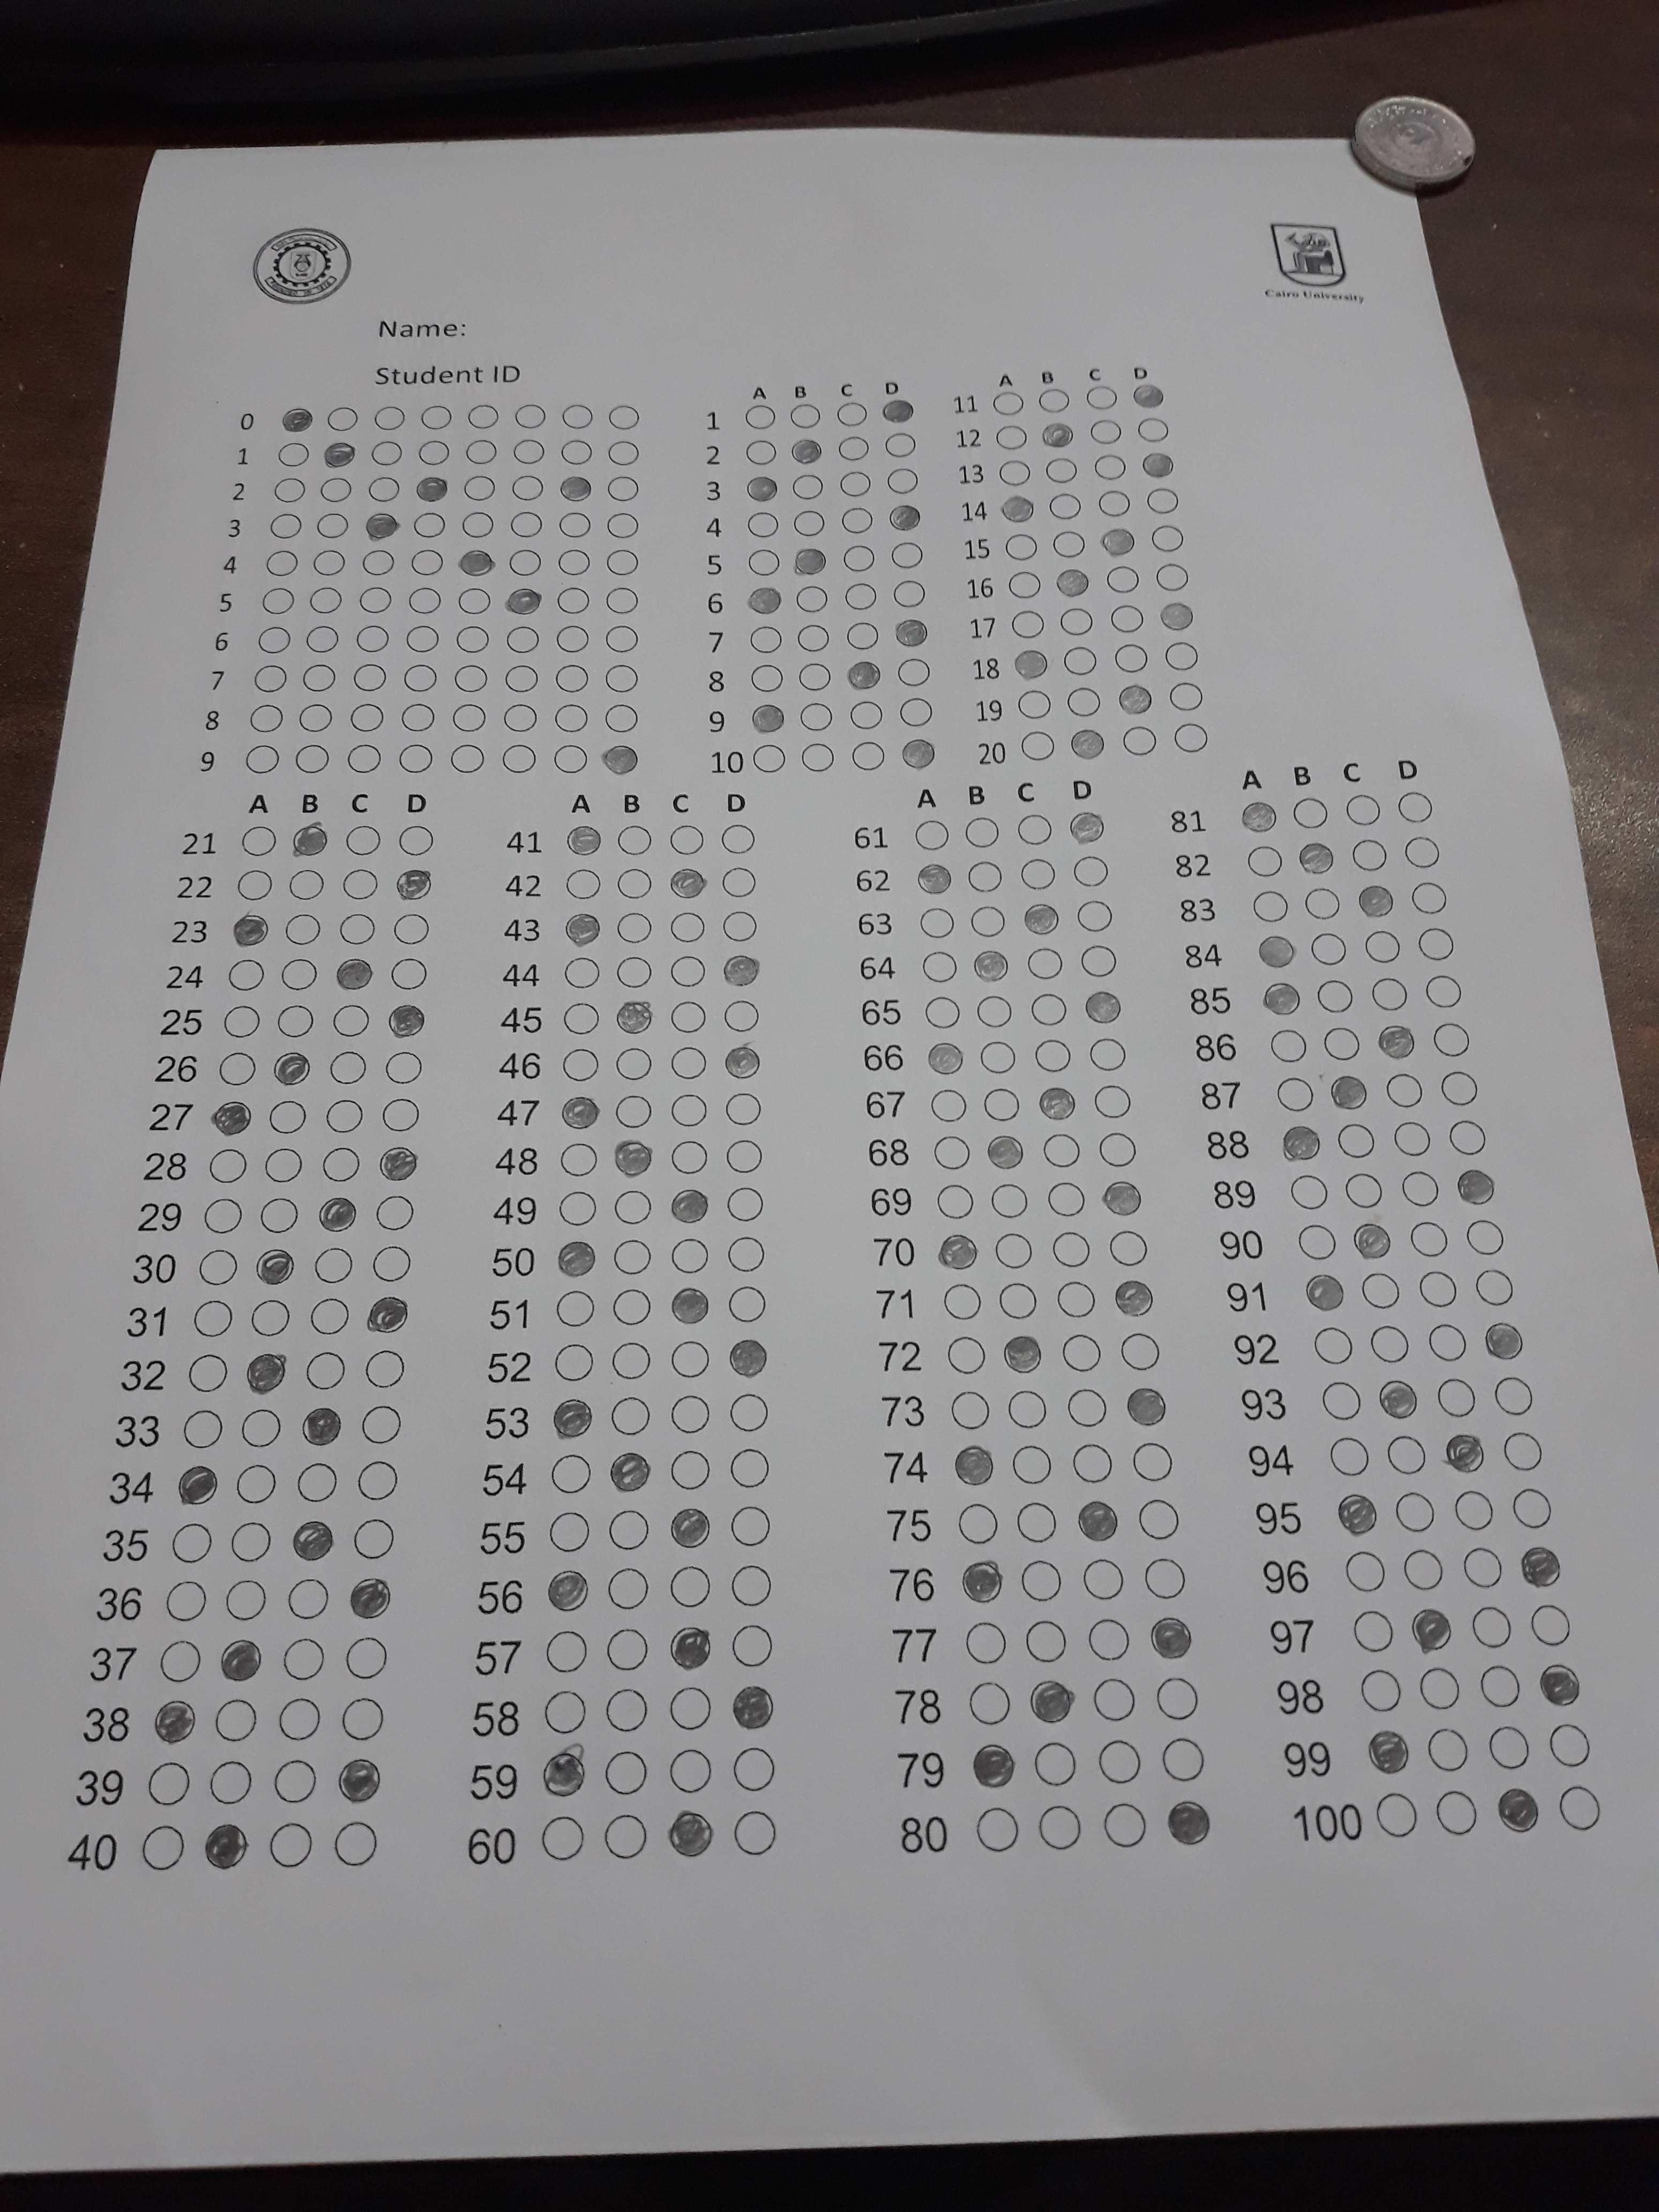not-c: (335, 1693, 385, 1743), (542, 1625, 592, 1676), (1032, 1740, 1082, 1791), (666, 1561, 716, 1611), (145, 1759, 195, 1810), (178, 1402, 228, 1453), (291, 1456, 342, 1507), (274, 1693, 324, 1743), (964, 1679, 1014, 1728), (964, 1618, 1012, 1669), (608, 1507, 657, 1557), (669, 1745, 718, 1796), (976, 1804, 1025, 1855), (1101, 1799, 1150, 1850), (1096, 1737, 1145, 1787), (1084, 1613, 1134, 1662), (727, 1559, 775, 1609), (267, 1818, 315, 1869), (211, 1696, 261, 1745), (138, 1824, 188, 1872), (349, 1514, 397, 1564), (601, 1811, 652, 1860), (601, 1749, 652, 1797), (357, 1397, 406, 1447), (359, 1343, 410, 1392), (160, 1576, 211, 1625), (155, 1637, 206, 1686), (272, 1756, 321, 1806), (1371, 1791, 1420, 1839), (603, 1625, 652, 1674), (603, 1562, 652, 1611), (545, 1508, 594, 1557), (666, 1684, 714, 1733), (1023, 1620, 1072, 1669), (1039, 1803, 1087, 1851), (1091, 1674, 1140, 1723), (732, 1808, 781, 1857), (730, 1743, 779, 1792), (727, 1620, 775, 1669), (728, 1503, 777, 1552), (331, 1820, 380, 1869), (207, 1757, 256, 1806), (538, 1813, 587, 1862), (603, 1686, 652, 1735), (540, 1688, 589, 1737), (237, 1404, 286, 1453), (352, 1454, 401, 1503), (282, 1573, 331, 1622), (221, 1575, 270, 1623), (227, 1517, 275, 1566), (230, 1460, 279, 1508), (167, 1517, 216, 1566), (279, 1634, 328, 1683), (342, 1632, 390, 1681), (1436, 1787, 1481, 1838), (1469, 1604, 1518, 1649), (549, 1451, 598, 1496), (990, 1228, 1037, 1273), (1486, 1724, 1534, 1770), (1556, 1785, 1603, 1831), (1547, 1723, 1595, 1768), (1509, 1486, 1556, 1531), (1499, 1428, 1546, 1474), (1492, 1372, 1539, 1418), (1434, 1374, 1481, 1420), (1422, 1320, 1469, 1366), (1366, 1320, 1413, 1366), (1065, 1386, 1112, 1432), (1054, 1278, 1101, 1324), (946, 1386, 993, 1432), (727, 1446, 774, 1491), (667, 1447, 714, 1493), (667, 1336, 714, 1381), (606, 1339, 653, 1385), (608, 1285, 655, 1331), (552, 1341, 599, 1386), (552, 1284, 599, 1329), (1019, 1557, 1066, 1602), (1014, 1501, 1061, 1547), (1159, 1737, 1206, 1782), (1134, 1496, 1182, 1541), (1129, 1439, 1176, 1484), (1070, 1440, 1117, 1486), (1419, 1667, 1466, 1712), (1349, 1608, 1396, 1653), (1344, 1548, 1391, 1594), (1462, 1545, 1509, 1590), (1382, 1432, 1429, 1477), (1415, 1266, 1464, 1310), (1462, 1216, 1511, 1259), (938, 1278, 986, 1322), (985, 1179, 1033, 1223), (608, 1235, 657, 1278), (666, 1137, 714, 1181), (716, 1087, 765, 1130), (666, 1089, 714, 1132), (1358, 1670, 1406, 1714), (997, 1278, 1044, 1322), (1358, 1268, 1405, 1312), (1471, 1266, 1518, 1310), (1406, 1216, 1453, 1259), (1103, 1226, 1150, 1270), (1094, 1127, 1141, 1170), (931, 1181, 978, 1224), (666, 1233, 713, 1277), (558, 1139, 605, 1183), (721, 1134, 769, 1177), (1478, 1665, 1525, 1709), (1425, 1728, 1473, 1771), (1528, 1604, 1575, 1648), (1317, 1379, 1364, 1423), (1310, 1324, 1358, 1367), (1007, 1442, 1054, 1486), (1004, 1388, 1051, 1432), (1115, 1331, 1162, 1374), (1058, 1331, 1105, 1374), (953, 1503, 1000, 1547), (945, 1334, 992, 1378), (723, 1390, 770, 1433), (667, 1393, 714, 1437), (606, 1393, 653, 1437), (725, 1282, 772, 1325), (1080, 1559, 1127, 1602), (1155, 1677, 1202, 1721), (1141, 1557, 1188, 1601), (1401, 1548, 1448, 1592), (1450, 1487, 1497, 1531), (1392, 1491, 1439, 1534), (1326, 1433, 1373, 1477), (260, 1143, 307, 1186), (321, 1094, 368, 1137), (185, 1352, 232, 1395), (1293, 1221, 1342, 1263), (723, 1233, 772, 1275), (608, 1188, 657, 1230), (256, 1193, 301, 1237), (200, 1193, 246, 1237), (197, 1245, 242, 1289), (317, 1143, 362, 1186), (380, 1045, 425, 1089), (204, 1143, 249, 1186), (265, 1096, 310, 1139), (214, 1047, 260, 1090), (376, 1092, 422, 1136), (310, 1244, 355, 1287), (190, 1296, 235, 1339), (247, 1294, 293, 1338), (307, 1294, 352, 1338), (303, 1348, 349, 1392), (373, 1191, 418, 1235), (369, 1242, 415, 1285), (1047, 1228, 1094, 1270), (1042, 1179, 1089, 1221), (1037, 1129, 1084, 1170), (931, 1130, 978, 1172), (723, 1183, 770, 1224), (556, 1190, 603, 1231), (610, 1092, 657, 1134), (324, 1047, 369, 1089), (1436, 1068, 1481, 1108), (1269, 1026, 1314, 1066), (1422, 972, 1467, 1012), (1023, 944, 1068, 984), (965, 900, 1011, 941), (1446, 1118, 1490, 1158), (978, 1087, 1023, 1125), (1093, 1083, 1138, 1122), (976, 1038, 1021, 1076), (922, 993, 967, 1031), (1340, 1172, 1385, 1211), (1391, 1122, 1436, 1160), (1333, 1122, 1378, 1160), (1368, 975, 1413, 1014), (1413, 925, 1459, 963), (1359, 927, 1405, 965), (1305, 930, 1351, 968), (1077, 941, 1122, 979), (915, 904, 960, 942), (329, 1000, 371, 1040), (927, 1087, 971, 1125), (1032, 1036, 1075, 1075), (1086, 1035, 1129, 1073), (1026, 989, 1070, 1028), (972, 993, 1016, 1031), (1288, 1174, 1331, 1212), (1399, 1170, 1443, 1209), (1382, 1071, 1425, 1109), (1274, 1076, 1317, 1115), (1431, 1021, 1474, 1059), (1321, 1024, 1364, 1062), (1316, 977, 1359, 1015), (920, 948, 964, 986), (1073, 895, 1117, 934), (225, 956, 268, 995), (274, 1001, 317, 1040), (221, 1001, 265, 1040), (387, 954, 430, 993), (389, 909, 432, 948), (335, 909, 378, 948), (394, 822, 437, 860), (281, 956, 322, 995), (282, 909, 324, 948), (342, 820, 383, 859), (1302, 885, 1345, 921), (1408, 880, 1452, 916), (1401, 833, 1445, 869), (964, 859, 1007, 895), (669, 1000, 713, 1036), (720, 998, 763, 1035), (666, 909, 709, 946), (718, 864, 762, 900), (613, 864, 657, 900), (563, 866, 606, 902), (716, 822, 760, 859), (615, 820, 659, 857), (338, 866, 382, 902), (237, 822, 281, 859), (1248, 888, 1290, 925), (1396, 789, 1438, 826), (1342, 791, 1384, 827), (962, 813, 1004, 850), (667, 1045, 709, 1082), (612, 1045, 653, 1082), (666, 953, 708, 989), (721, 907, 763, 944), (666, 820, 708, 857), (911, 817, 953, 853), (286, 866, 328, 902), (234, 866, 275, 902), (1068, 853, 1112, 888), (1241, 843, 1284, 878), (1012, 812, 1056, 846), (559, 1047, 603, 1082), (612, 954, 655, 989), (561, 956, 605, 991), (612, 909, 655, 944), (1016, 857, 1058, 892), (1349, 838, 1391, 873), (1290, 796, 1331, 831), (561, 1001, 603, 1036), (751, 742, 791, 775), (507, 507, 547, 540), (301, 624, 342, 657), (308, 547, 349, 580), (364, 472, 404, 505), (315, 472, 355, 505), (509, 435, 549, 469), (460, 435, 500, 469), (416, 401, 457, 434), (349, 662, 389, 695), (352, 622, 392, 655), (450, 702, 490, 735), (500, 700, 540, 733), (552, 662, 592, 695), (554, 622, 594, 655), (504, 624, 544, 657), (453, 624, 493, 657), (800, 740, 840, 773), (1065, 686, 1105, 719), (849, 698, 889, 732), (793, 622, 833, 655), (748, 624, 788, 657), (786, 470, 826, 503), (744, 510, 784, 543), (448, 742, 488, 775), (1060, 643, 1100, 676), (1058, 604, 1098, 637), (1105, 563, 1145, 596), (1148, 521, 1188, 554), (1162, 641, 1202, 674), (1119, 725, 1159, 758), (509, 472, 547, 505), (368, 435, 406, 469), (404, 622, 443, 655), (404, 583, 443, 617), (408, 545, 446, 578), (795, 583, 833, 617), (345, 742, 383, 775), (1051, 528, 1089, 561), (1009, 606, 1047, 639), (408, 509, 448, 540), (457, 509, 497, 540), (505, 547, 545, 578), (554, 509, 594, 540), (254, 625, 295, 657), (305, 585, 345, 617), (312, 510, 352, 542), (260, 583, 300, 615), (603, 624, 643, 655), (603, 547, 643, 578), (460, 472, 500, 503), (606, 437, 647, 469), (556, 435, 596, 467), (606, 402, 647, 434), (272, 475, 312, 507), (274, 441, 314, 472), (511, 402, 551, 434), (464, 402, 504, 434), (369, 402, 410, 434), (249, 702, 289, 733), (451, 664, 491, 695), (502, 664, 542, 695), (552, 702, 592, 733), (551, 744, 591, 775), (599, 704, 640, 735), (455, 585, 495, 617), (889, 578, 929, 610), (796, 702, 836, 733), (849, 740, 889, 772), (896, 697, 936, 728), (843, 620, 884, 651), (748, 664, 788, 695), (789, 509, 829, 540), (396, 744, 436, 775), (399, 702, 439, 733), (1006, 570, 1046, 601), (1114, 643, 1154, 674), (1152, 561, 1192, 592), (1166, 681, 1206, 712), (1173, 723, 1213, 754), (359, 545, 397, 577), (552, 587, 591, 618), (554, 547, 592, 578), (603, 664, 641, 695), (603, 583, 641, 615), (603, 509, 641, 540), (605, 472, 643, 503), (416, 437, 455, 469), (267, 512, 305, 543), (263, 547, 301, 578), (559, 402, 598, 434), (324, 402, 362, 434), (403, 662, 441, 693), (295, 744, 333, 775), (296, 702, 335, 733), (298, 662, 336, 693), (246, 744, 284, 775), (251, 664, 289, 695), (500, 744, 538, 775), (355, 583, 394, 615), (1019, 732, 1058, 763), (798, 662, 836, 693), (896, 657, 934, 688), (742, 547, 781, 578), (349, 702, 387, 733), (1016, 690, 1054, 721), (1110, 603, 1148, 634), (1098, 488, 1133, 519), (1093, 451, 1127, 482), (1136, 415, 1171, 446), (1086, 383, 1121, 415), (992, 388, 1026, 420), (889, 540, 924, 571), (842, 543, 877, 575), (884, 428, 918, 460), (836, 432, 871, 463), (1049, 491, 1084, 523), (997, 458, 1032, 488), (1004, 533, 1039, 563), (1147, 488, 1182, 517), (1089, 418, 1124, 448), (1037, 387, 1072, 416), (843, 582, 878, 611), (840, 505, 875, 535), (887, 467, 922, 496), (838, 469, 873, 498), (744, 437, 779, 467), (835, 399, 870, 428), (789, 401, 824, 430), (742, 401, 777, 430), (993, 421, 1028, 451), (1046, 455, 1080, 484)
taken-c: (666, 1808, 716, 1860), (333, 1757, 387, 1804), (1162, 1799, 1213, 1848), (345, 1575, 399, 1620), (214, 1637, 268, 1683), (146, 1698, 200, 1743), (200, 1824, 254, 1869), (284, 1517, 338, 1562), (969, 1743, 1018, 1791), (1364, 1730, 1413, 1777), (1516, 1543, 1565, 1590), (1441, 1430, 1490, 1477), (958, 1559, 1007, 1606), (545, 1569, 596, 1615), (1493, 1787, 1544, 1832), (1028, 1679, 1077, 1724), (1147, 1618, 1195, 1663), (1535, 1663, 1584, 1709), (1408, 1606, 1457, 1651), (1333, 1493, 1382, 1538), (1373, 1376, 1422, 1421), (666, 1625, 714, 1670), (538, 1752, 587, 1797), (728, 1686, 777, 1731), (1075, 1498, 1124, 1543), (948, 1444, 997, 1489), (242, 1352, 289, 1395), (549, 1397, 596, 1440), (723, 1336, 770, 1379), (554, 1237, 601, 1280), (174, 1465, 221, 1507), (296, 1404, 343, 1446), (606, 1451, 653, 1493), (666, 1507, 713, 1548), (666, 1285, 713, 1327), (667, 1186, 714, 1228), (608, 1137, 655, 1179), (1300, 1271, 1347, 1312), (1000, 1334, 1047, 1374), (1110, 1278, 1157, 1318), (983, 1132, 1030, 1172), (1481, 1320, 1527, 1360), (1122, 1385, 1168, 1425), (936, 1231, 981, 1271), (364, 1296, 410, 1336), (254, 1247, 300, 1287), (315, 1195, 361, 1235), (209, 1097, 254, 1137), (268, 1047, 314, 1087), (228, 911, 274, 951), (376, 1144, 420, 1184), (333, 953, 376, 993), (1279, 1123, 1324, 1162), (1101, 1179, 1147, 1217), (1351, 1221, 1396, 1259), (558, 1092, 603, 1130), (1455, 1169, 1499, 1207), (1262, 979, 1305, 1017), (1255, 932, 1298, 970), (911, 859, 955, 897), (383, 1003, 427, 1042), (1035, 1085, 1079, 1122), (925, 1040, 969, 1076), (1328, 1075, 1371, 1111), (1375, 1024, 1419, 1061), (1084, 989, 1127, 1026), (1354, 883, 1398, 920), (1295, 840, 1338, 876), (1237, 799, 1281, 836), (969, 948, 1012, 984), (1018, 900, 1061, 937), (559, 913, 603, 946), (725, 1045, 762, 1080), (615, 1001, 653, 1035), (601, 744, 641, 775), (999, 495, 1039, 526), (744, 585, 784, 617), (788, 435, 828, 467), (411, 472, 451, 503), (319, 439, 359, 470), (667, 867, 708, 899), (392, 869, 432, 900), (565, 824, 605, 855), (1068, 810, 1107, 841), (749, 702, 788, 733), (1068, 728, 1107, 759), (1119, 683, 1157, 714), (1054, 566, 1093, 597), (1140, 449, 1178, 481), (885, 502, 924, 533), (1129, 381, 1168, 413), (901, 738, 939, 770), (845, 658, 884, 690), (892, 617, 931, 648), (744, 474, 782, 505), (878, 395, 917, 427), (556, 472, 594, 503), (458, 547, 497, 578), (362, 509, 401, 540), (279, 404, 317, 435), (721, 954, 760, 986), (289, 824, 328, 855), (1157, 601, 1197, 631), (1100, 526, 1140, 556), (1012, 650, 1051, 679), (1039, 421, 1077, 451), (791, 547, 829, 577), (505, 585, 544, 615)
